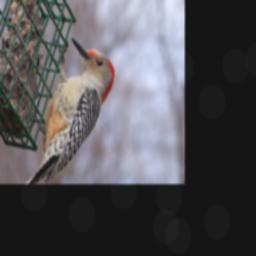Woodpecker: (30, 39, 115, 184)
